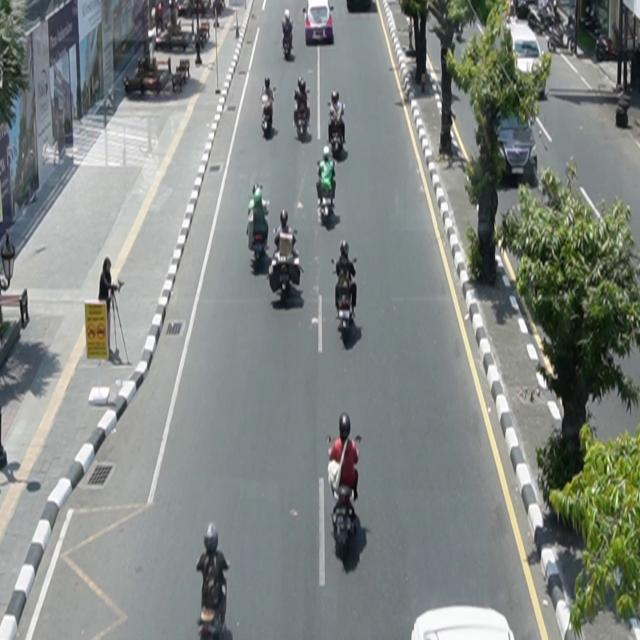car: (412, 606, 516, 640), (504, 22, 547, 100), (495, 109, 539, 182), (303, 1, 334, 45)
